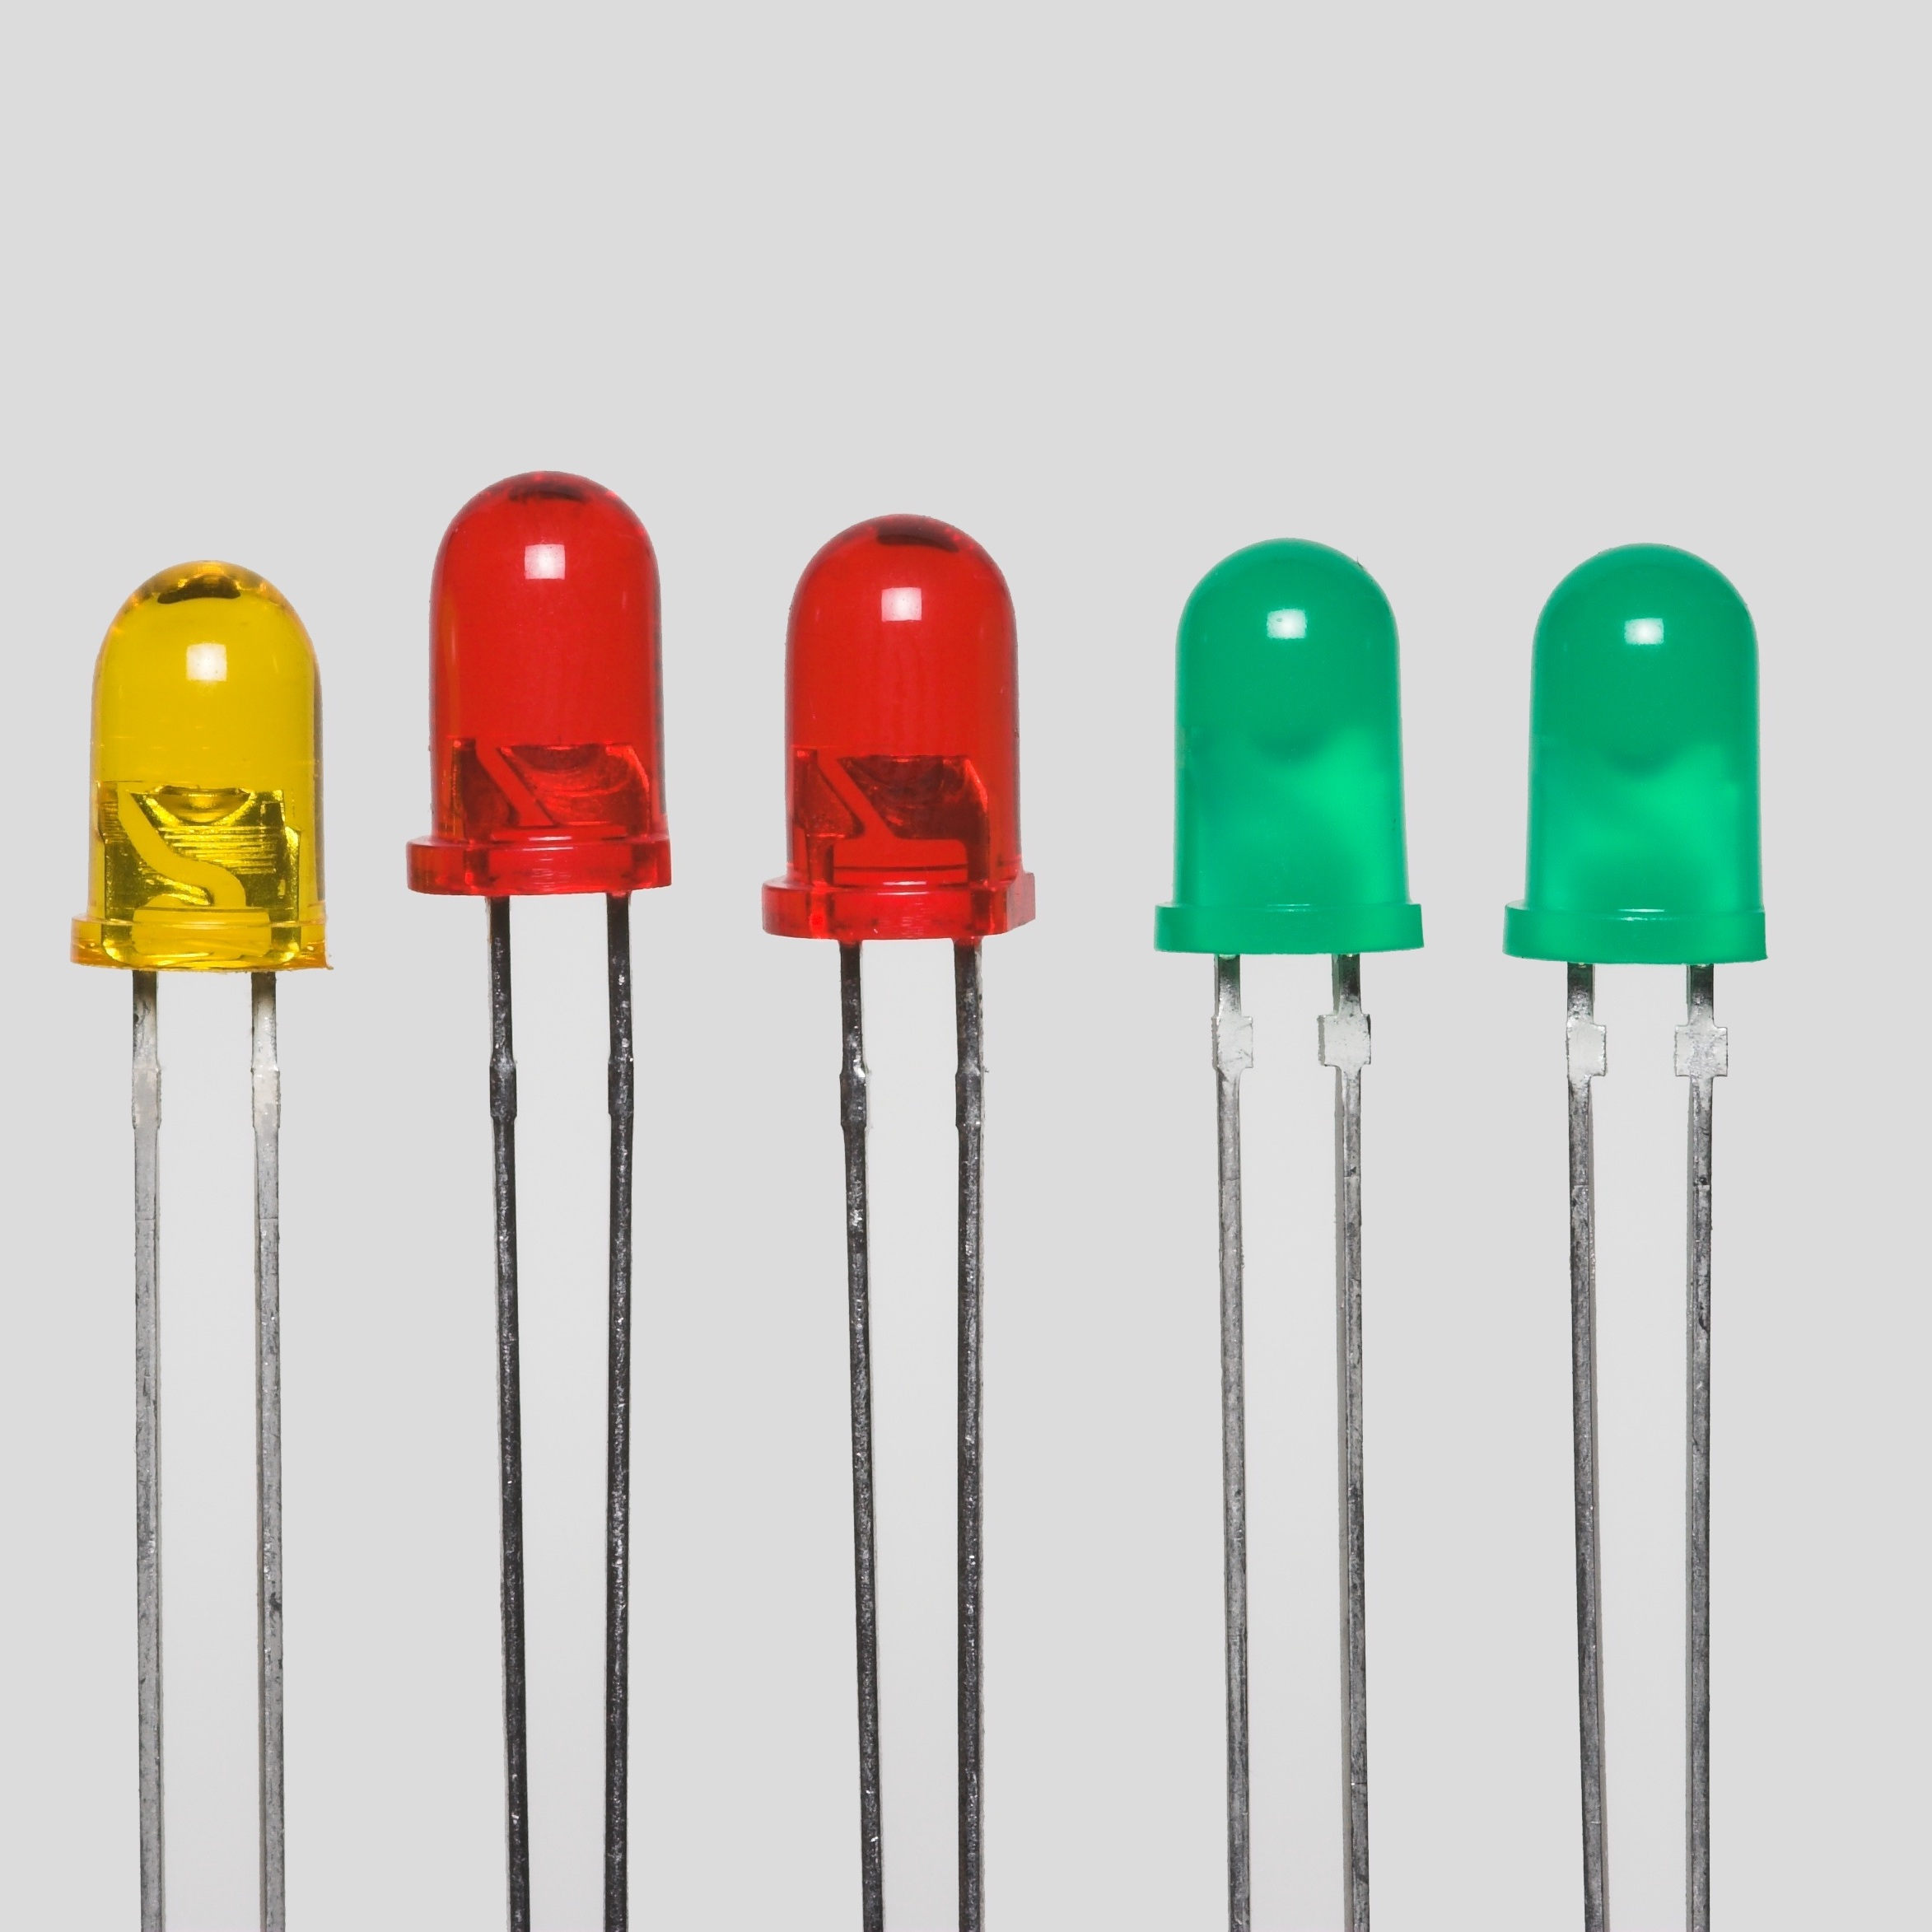LED: (763, 513, 1037, 941), (403, 471, 676, 895), (1499, 540, 1769, 964), (1152, 538, 1426, 955), (69, 561, 333, 973)
